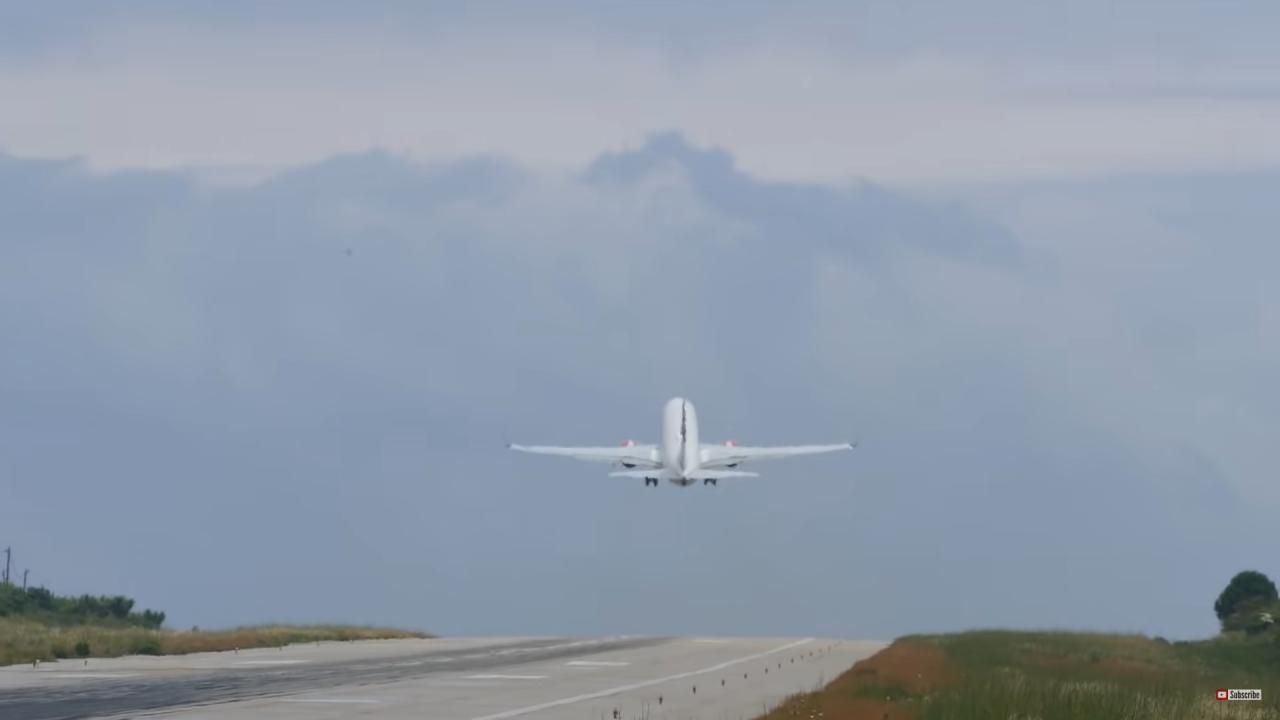Airplane: (494, 381, 869, 500)
